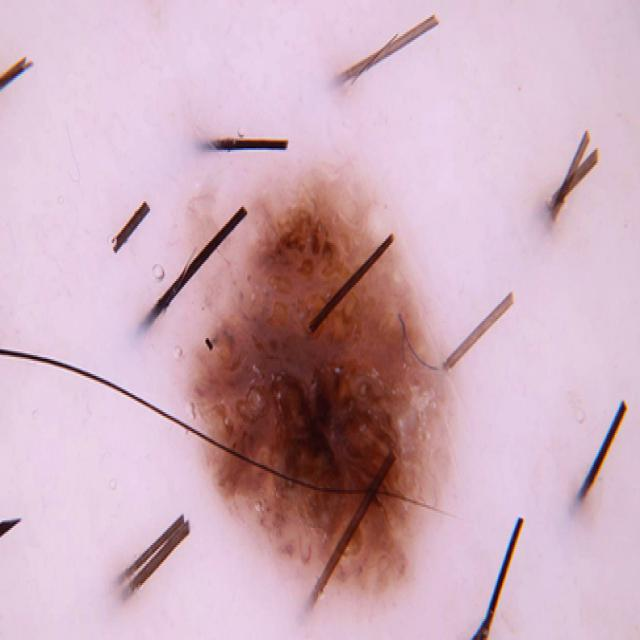Keratosis: (128, 131, 494, 629)
